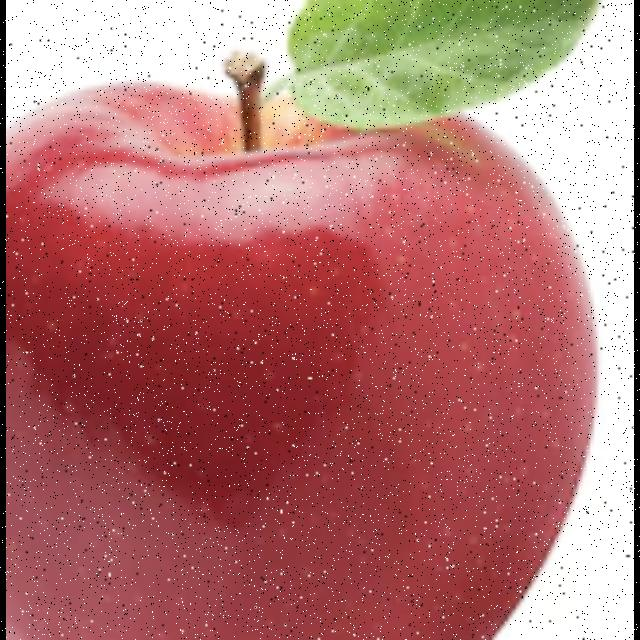Apel Segar: (6, 40, 618, 640)
